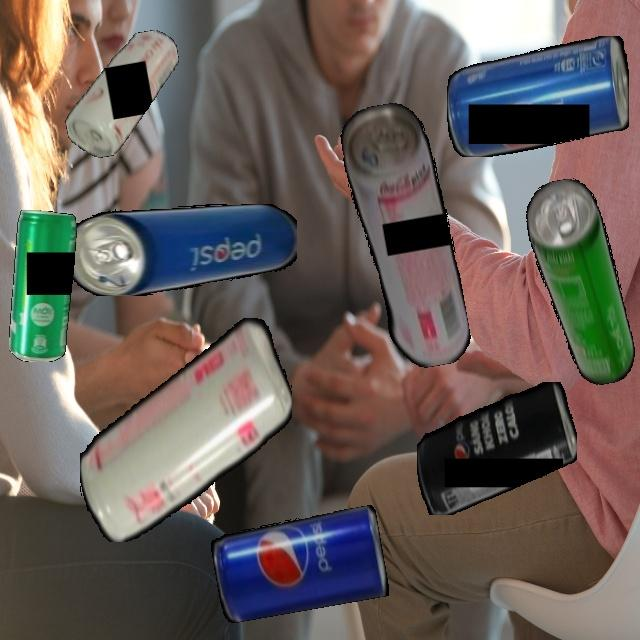debris: (79, 317, 292, 542), (336, 97, 474, 375), (521, 173, 639, 392), (446, 35, 629, 157), (416, 381, 577, 515), (209, 505, 390, 624), (66, 203, 297, 296), (53, 27, 193, 162), (8, 209, 77, 362)
